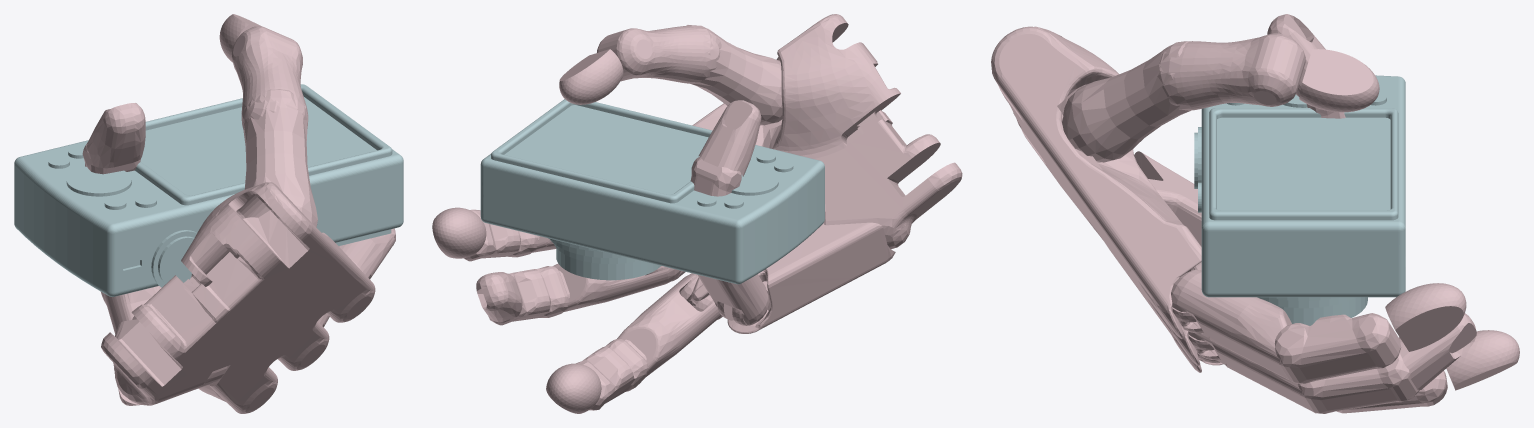
Rendered from grasp_0.glb.
3 renders of one model, left to right at view 1: azimuth 30°, elevation 25°; view 2: azimuth 150°, elevation 25°; view 3: azimuth 270°, elevation 25°, orthographic. The views are drawn at different scales.
Visible parts, largest first — view 1: world; view 2: world; view 3: world.
Part boxes in pixels (<box>): world: <box>14,14,403,413</box>; world: <box>432,14,962,413</box>; world: <box>991,14,1519,413</box>.
Bounding box in the file's own units: 0.1584 × 0.1367 × 0.1678.
